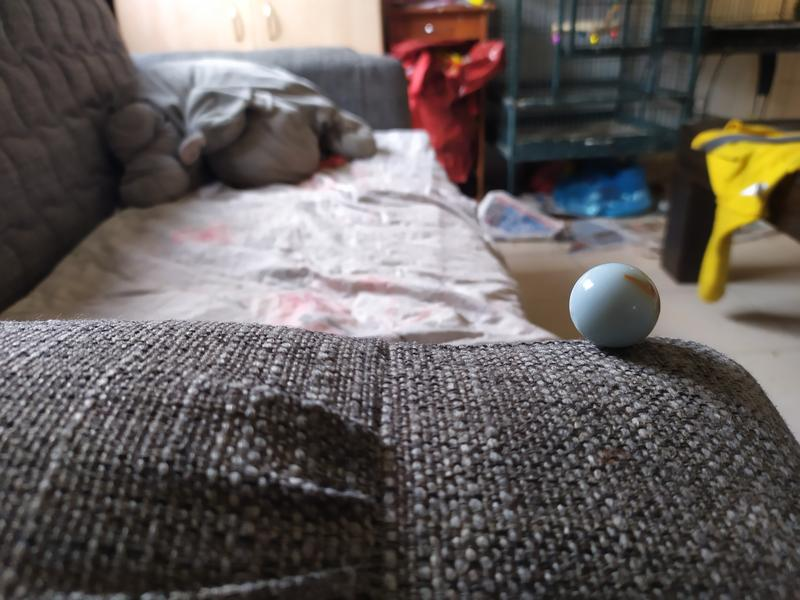Warning: (567, 260, 662, 351)
